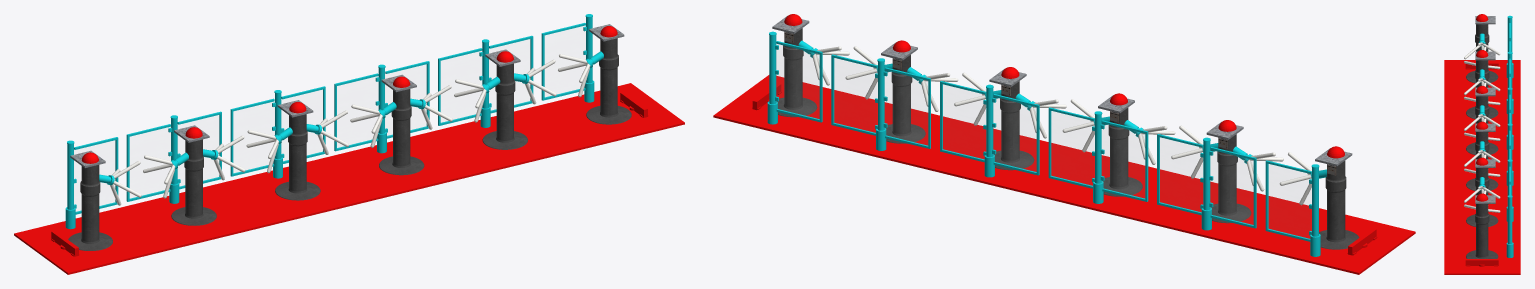
The model's file is Other_Tripod_Turnstile__3085.glb.
3 renders of one model, left to right at view 1: azimuth 30°, elevation 25°; view 2: azimuth 150°, elevation 25°; view 3: azimuth 270°, elevation 25°, orthographic. The views are drawn at different scales.
Parts seen in each view (by area): view 1: cabinet::base_plate, cabinet::post_body_-3.19, cabinet::post_body_+0.64, cabinet::post_body_+1.91, cabinet::post_body_-0.64, cabinet::post_body_-1.91, cabinet::post_body_+3.19, glass_post_0::hinge_post; view 2: cabinet::base_plate, cabinet::post_body_-3.19, cabinet::post_body_+0.64, cabinet::post_body_+1.91, cabinet::post_body_-0.64, cabinet::post_body_-1.91, cabinet::post_body_+3.19, glass_post_1::hinge_post, glass_post_3::hinge_post, glass_post_5::hinge_post, glass_post_0::hinge_post, glass_post_2::hinge_post (+1 smaller); view 3: cabinet::base_plate, cabinet::post_body_+3.19, cabinet::post_body_-1.91, cabinet::post_body_-3.19, cabinet::post_body_+1.91, cabinet::post_body_-0.64, cabinet::post_body_+0.64, glass_post_5::hinge_post, side_railing_1::frame, glass_post_0::hinge_post, glass_post_1::hinge_post, glass_post_2::hinge_post (+27 smaller).
Boxes of the visible parts, left/top/right/bottom form: cabinet::base_plate: left=14, top=83, right=684, bottom=274; cabinet::post_body_-3.19: left=68, top=165, right=112, bottom=250; cabinet::post_body_+0.64: left=379, top=89, right=424, bottom=175; cabinet::post_body_+1.91: left=482, top=63, right=527, bottom=149; cabinet::post_body_-0.64: left=275, top=114, right=320, bottom=200; cabinet::post_body_-1.91: left=171, top=139, right=216, bottom=225; cabinet::post_body_+3.19: left=586, top=38, right=631, bottom=124; glass_post_0::hinge_post: left=67, top=143, right=73, bottom=209; cabinet::base_plate: left=713, top=75, right=1415, bottom=274; cabinet::post_body_-3.19: left=1319, top=161, right=1359, bottom=249; cabinet::post_body_+0.64: left=994, top=81, right=1034, bottom=170; cabinet::post_body_+1.91: left=885, top=55, right=925, bottom=143; cabinet::post_body_-0.64: left=1102, top=107, right=1142, bottom=196; cabinet::post_body_-1.91: left=1211, top=134, right=1251, bottom=223; cabinet::post_body_+3.19: left=777, top=28, right=817, bottom=117; glass_post_1::hinge_post: left=1203, top=138, right=1210, bottom=210; glass_post_3::hinge_post: left=986, top=88, right=993, bottom=157; glass_post_5::hinge_post: left=769, top=35, right=776, bottom=104; glass_post_0::hinge_post: left=1312, top=164, right=1318, bottom=236; glass_post_2::hinge_post: left=1095, top=111, right=1101, bottom=183; cabinet::base_plate: left=1444, top=60, right=1520, bottom=274; cabinet::post_body_+3.19: left=1466, top=204, right=1498, bottom=258; cabinet::post_body_-1.91: left=1466, top=60, right=1498, bottom=119; cabinet::post_body_-3.19: left=1466, top=24, right=1498, bottom=83; cabinet::post_body_+1.91: left=1466, top=168, right=1498, bottom=226; cabinet::post_body_-0.64: left=1466, top=96, right=1498, bottom=154; cabinet::post_body_+0.64: left=1466, top=132, right=1498, bottom=190; glass_post_5::hinge_post: left=1507, top=195, right=1512, bottom=244; side_railing_1::frame: left=1465, top=259, right=1498, bottom=265; glass_post_0::hinge_post: left=1507, top=16, right=1512, bottom=51; glass_post_1::hinge_post: left=1507, top=54, right=1512, bottom=87; glass_post_2::hinge_post: left=1507, top=90, right=1512, bottom=123.
Bounding box in the file's own units: 7.58 × 1.06 × 1.15.
Materials: 8 (7 with a texture image).
